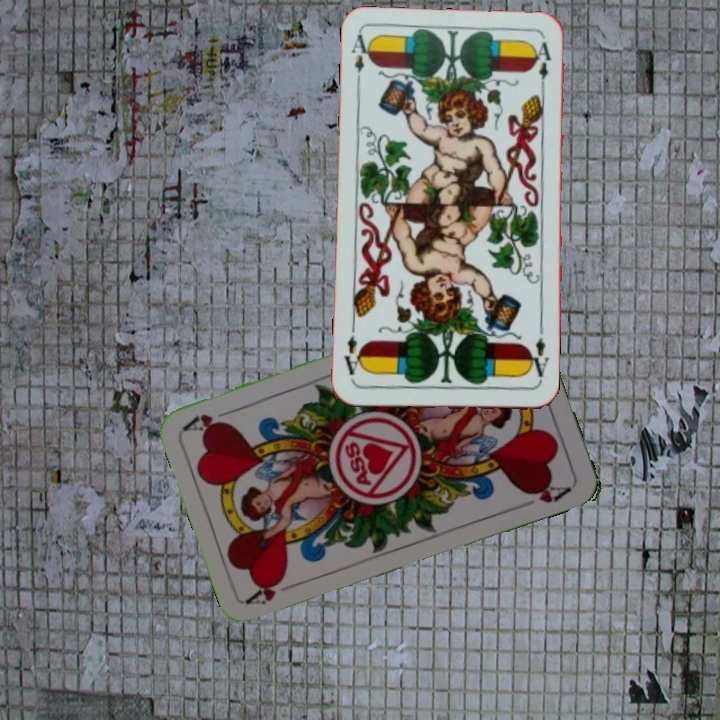EA: (524, 326, 551, 385), (347, 31, 374, 90)
HA: (243, 574, 301, 608)
